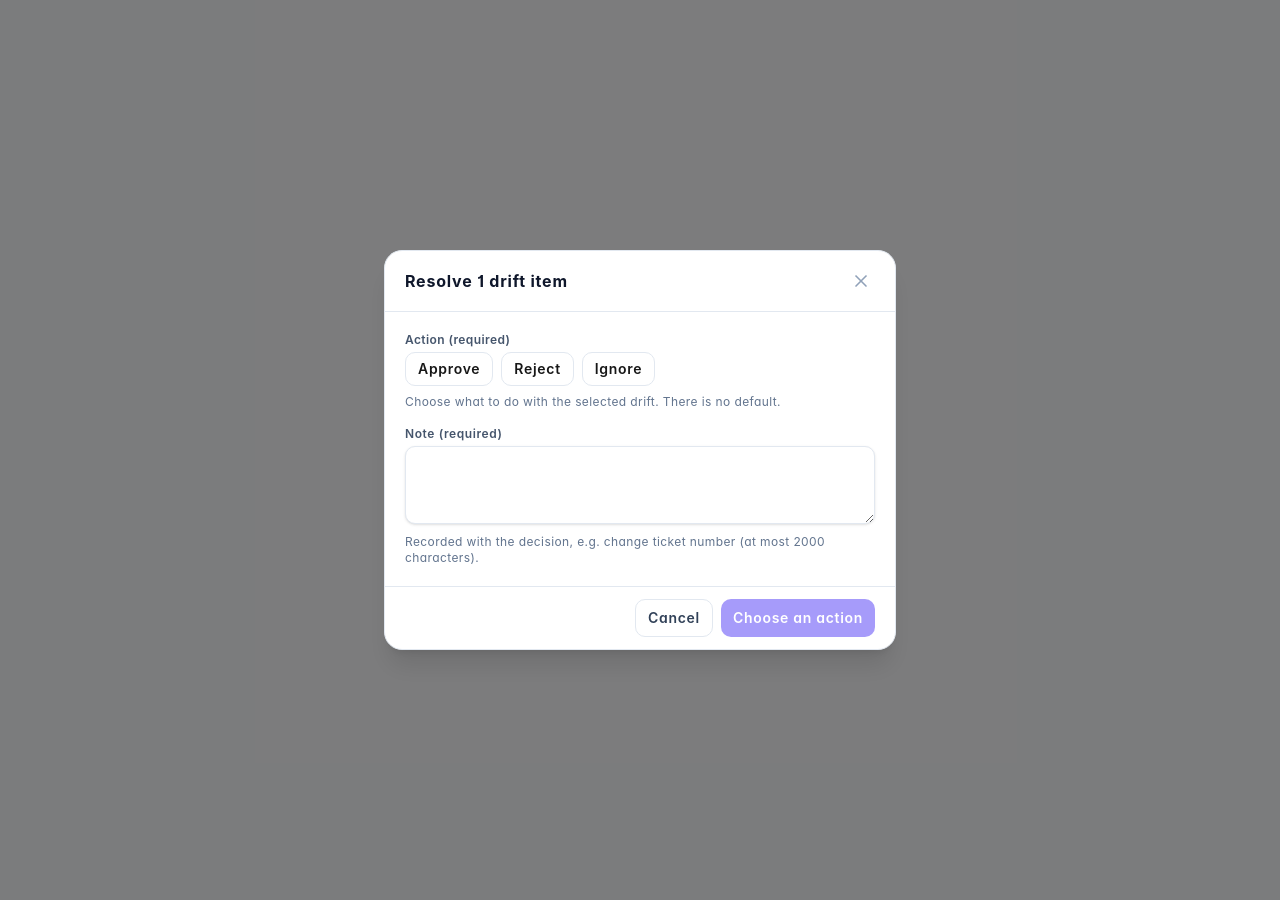
ResolveModal › 409 drift_changed: shows the message, keeps the modal open and reloads keeping the item
This screenshot has width=1280, height=900.
Click the radio button labelled "Approve". click: x=449, y=369
box: [405,352,493,386]
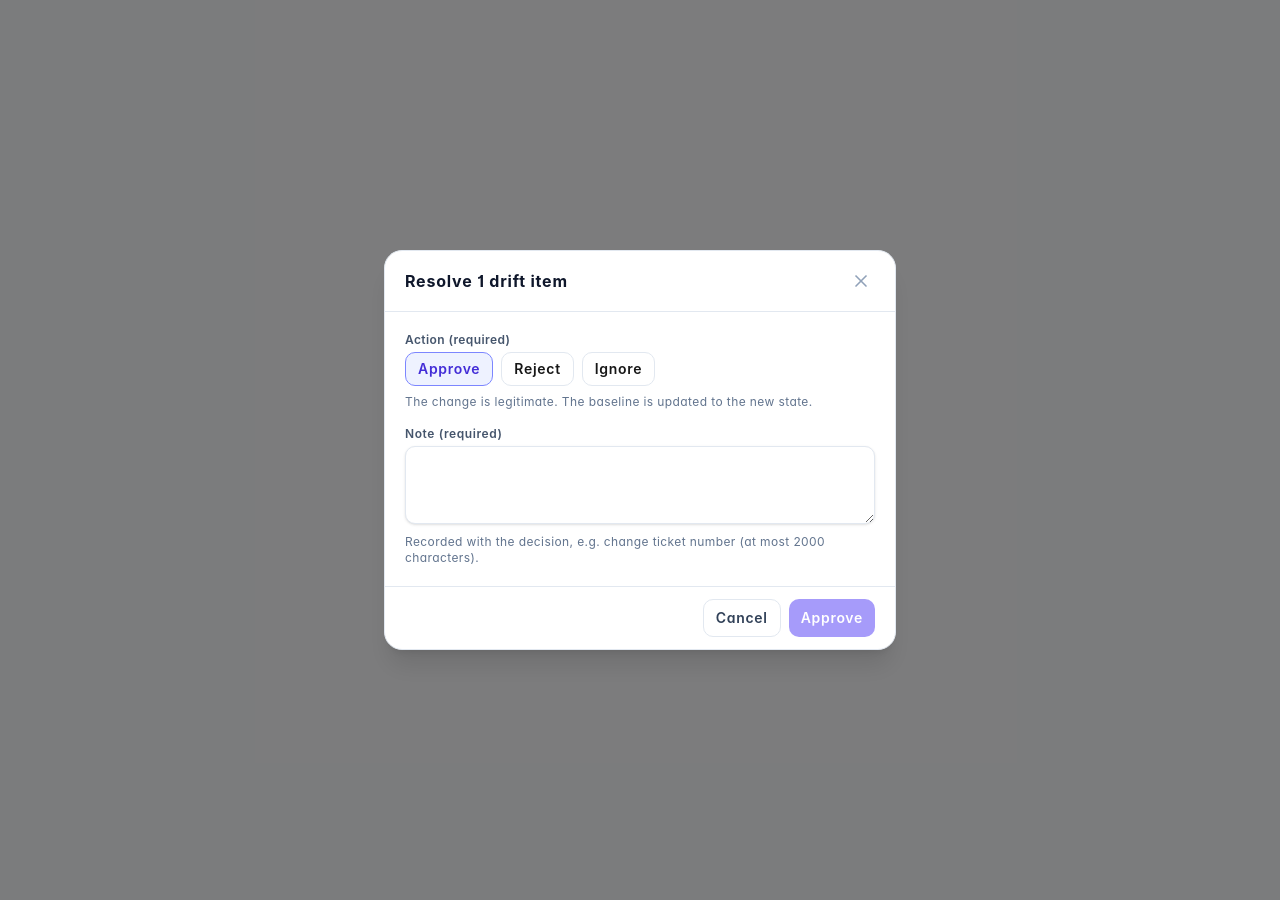
Type "CHG-1" into the text box labelled "Note (required)". click: x=640, y=485
box: [405,446,875,524]
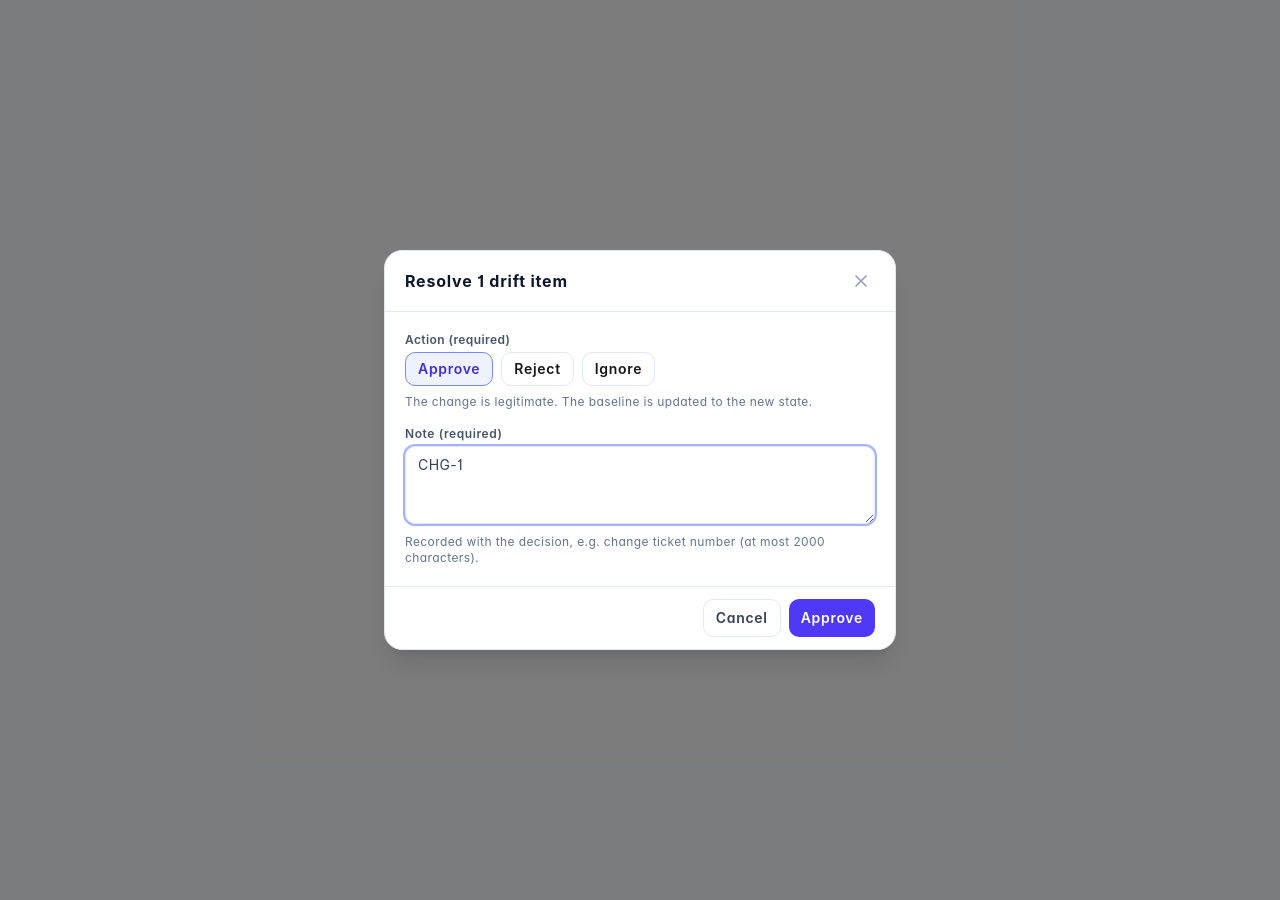
Click the button "Approve". click: x=832, y=618
box: [789,599,875,637]
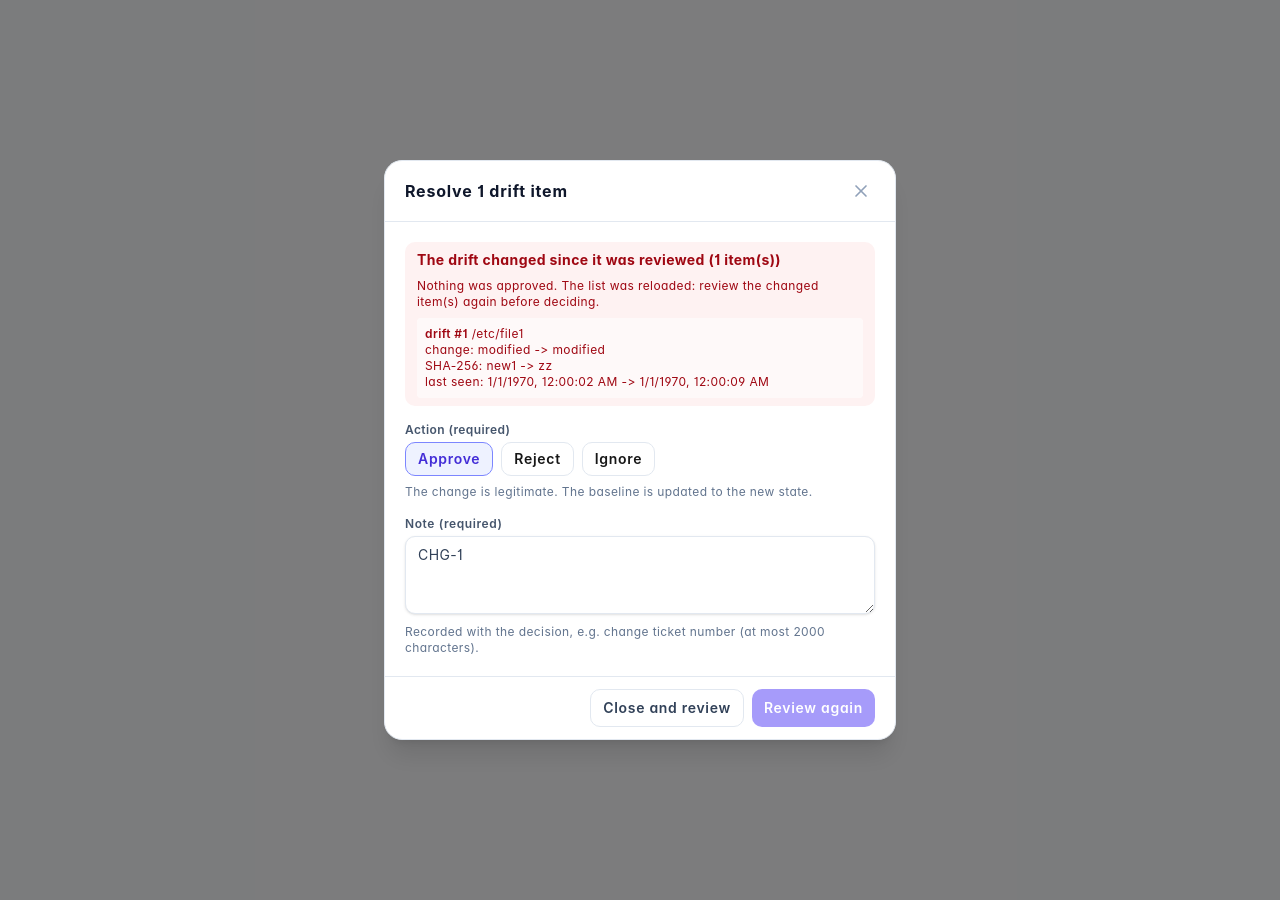
Check: the text "The drift changed since it was reviewed (1 item(s))" is shown, box [417,251,781,268]
Check: the text "Nothing was approved" is shown, box [417,278,819,309]
Check: the button "Review again" is disabled, box [752,689,875,727]
